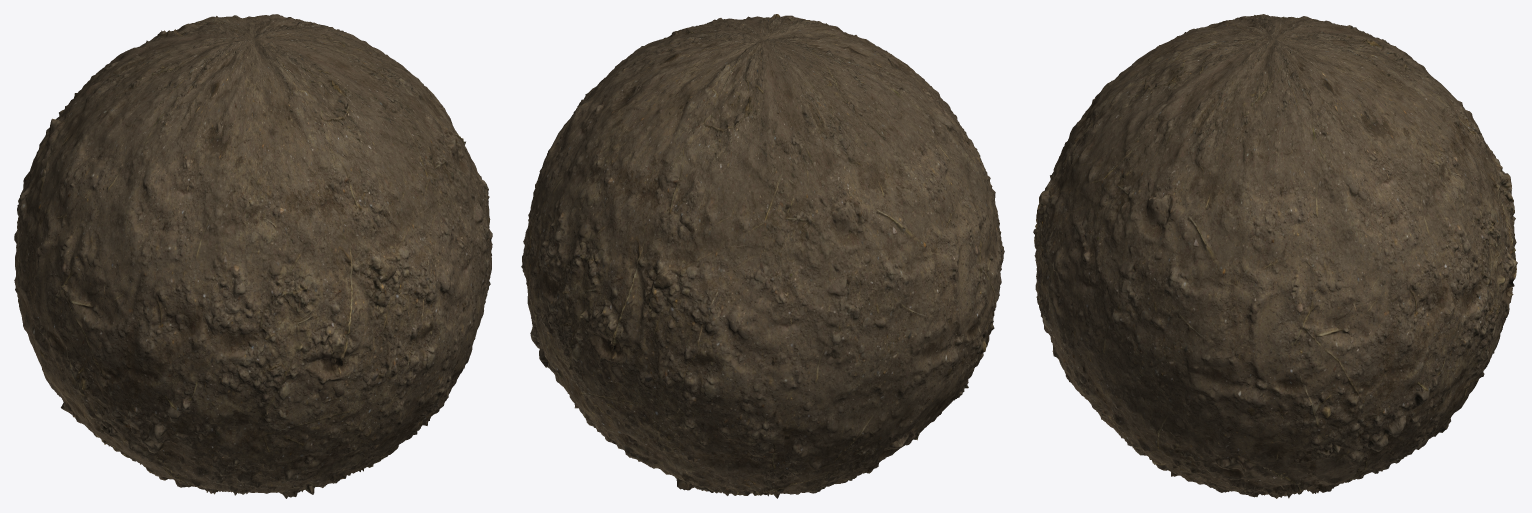
The model's file is brown_mud_2k.gltf.
3 views of the same model, side by side, from view 1: azimuth 30°, elevation 25°; view 2: azimuth 150°, elevation 25°; view 3: azimuth 270°, elevation 25° (orthographic).
Visible parts, largest first — view 1: sphere_gltf; view 2: sphere_gltf; view 3: sphere_gltf.
Boxes of the visible parts, <box> form: sphere_gltf: <box>14,14,492,498</box>; sphere_gltf: <box>521,14,1004,498</box>; sphere_gltf: <box>1033,14,1517,498</box>.
Size of the model in its own units: 1.31 by 1.32 by 1.31.
1 material, 1 textured.
